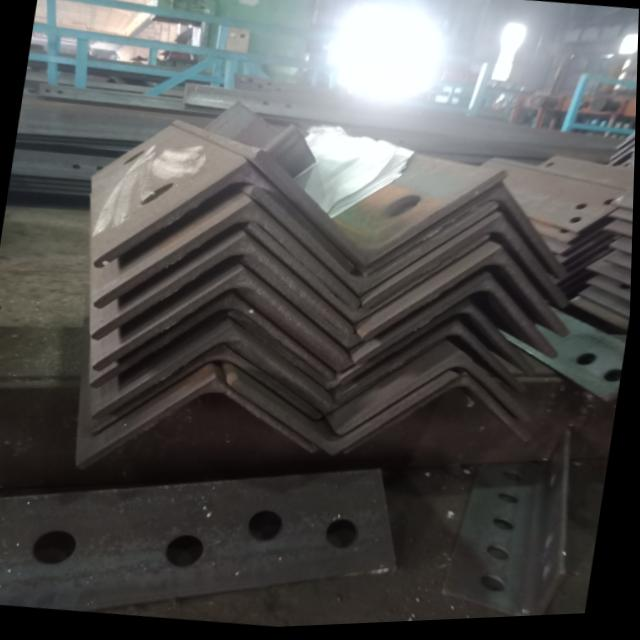metal-angles: (253, 151, 508, 267), (94, 202, 362, 311), (97, 162, 356, 274), (92, 235, 357, 342), (250, 188, 498, 299), (94, 269, 356, 372), (248, 225, 492, 326), (93, 295, 338, 389), (79, 379, 321, 471), (96, 327, 336, 419), (89, 346, 326, 434), (364, 186, 569, 283), (366, 218, 572, 313), (365, 250, 571, 344), (358, 276, 561, 369), (233, 375, 459, 456), (328, 325, 528, 415), (342, 304, 539, 386), (341, 354, 532, 438), (344, 378, 533, 458), (446, 593, 531, 621), (533, 579, 569, 621)
